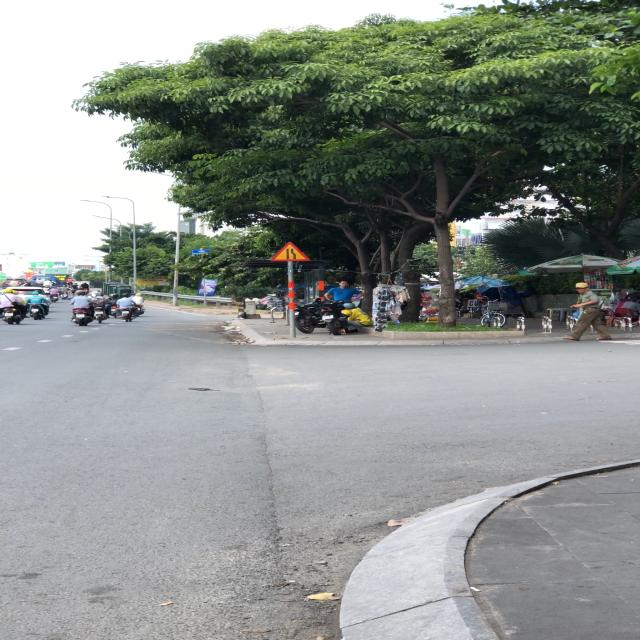Bien bao duong bi thu hep: (268, 240, 312, 262)
